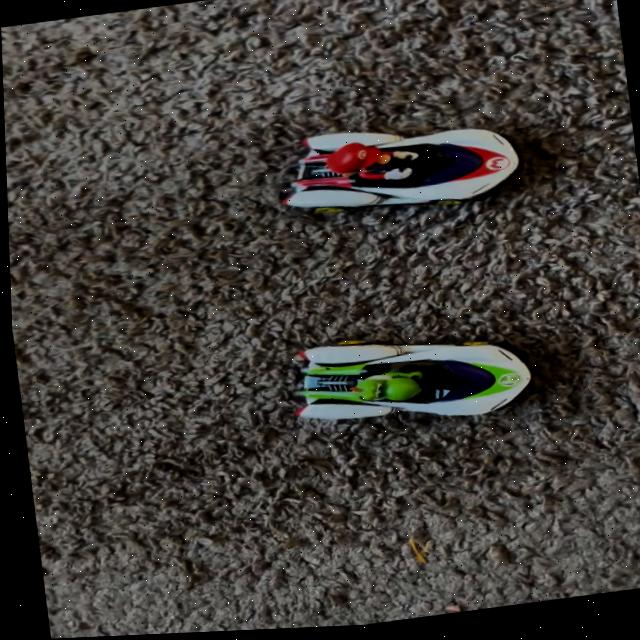mario: (261, 101, 537, 232)
yoshi: (268, 293, 551, 453)
